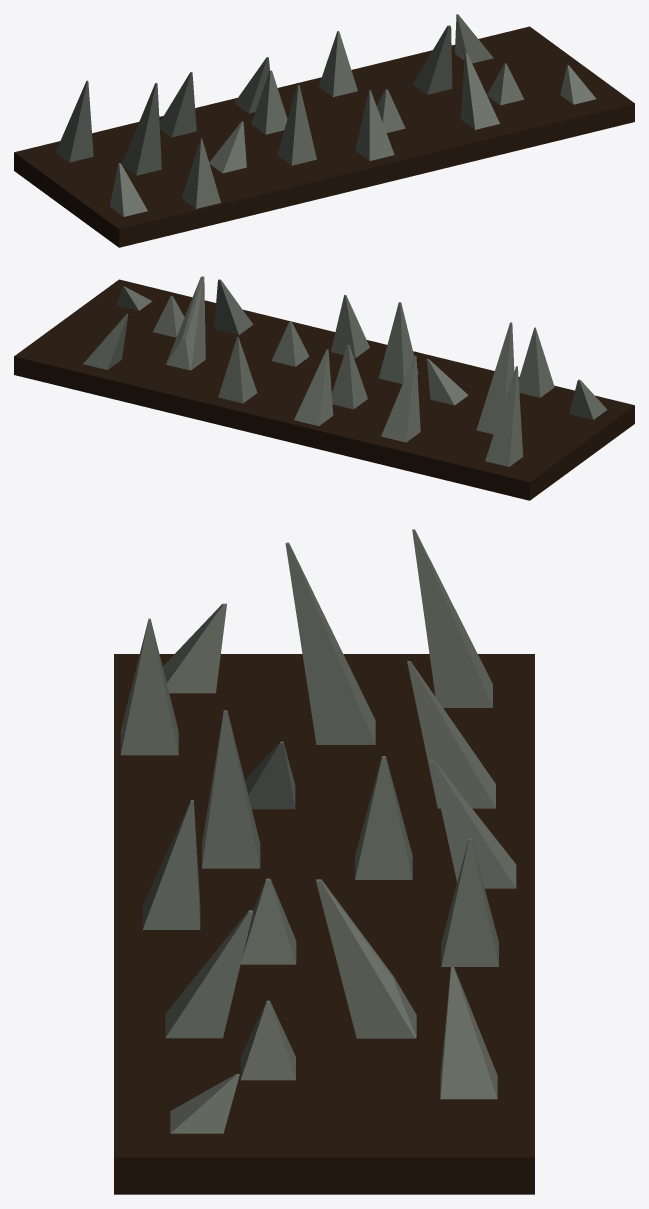
File: Spikes_01.fbx
3 views of the same model, one above another, from view 1: azimuth 30°, elevation 25°; view 2: azimuth 150°, elevation 25°; view 3: azimuth 270°, elevation 25° (orthographic). The views are drawn at different scales.
Parts seen in each view (by area): view 1: Cube; view 2: Cube; view 3: Cube.
Part boxes in pixels (box(x1,y1,x2,y2)): Cube: box(14, 14, 634, 247); Cube: box(14, 276, 634, 500); Cube: box(114, 529, 534, 1194).
Bounding box in the file's own units: 566 × 119 × 200.
